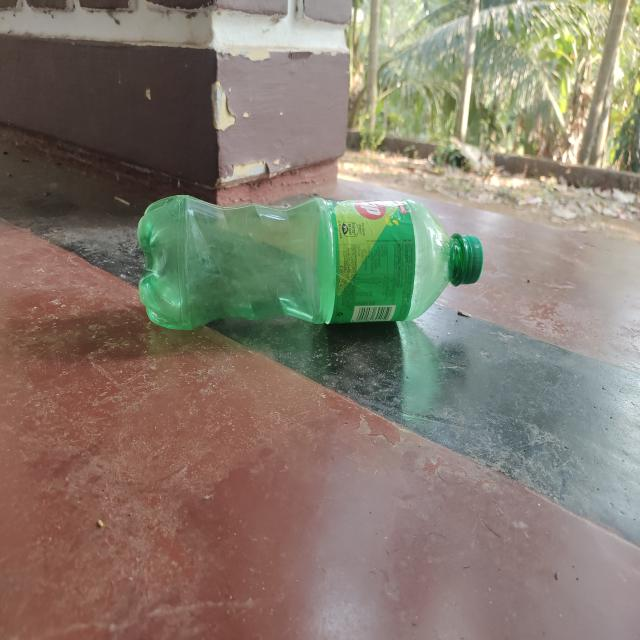plastic: (137, 193, 483, 336)
